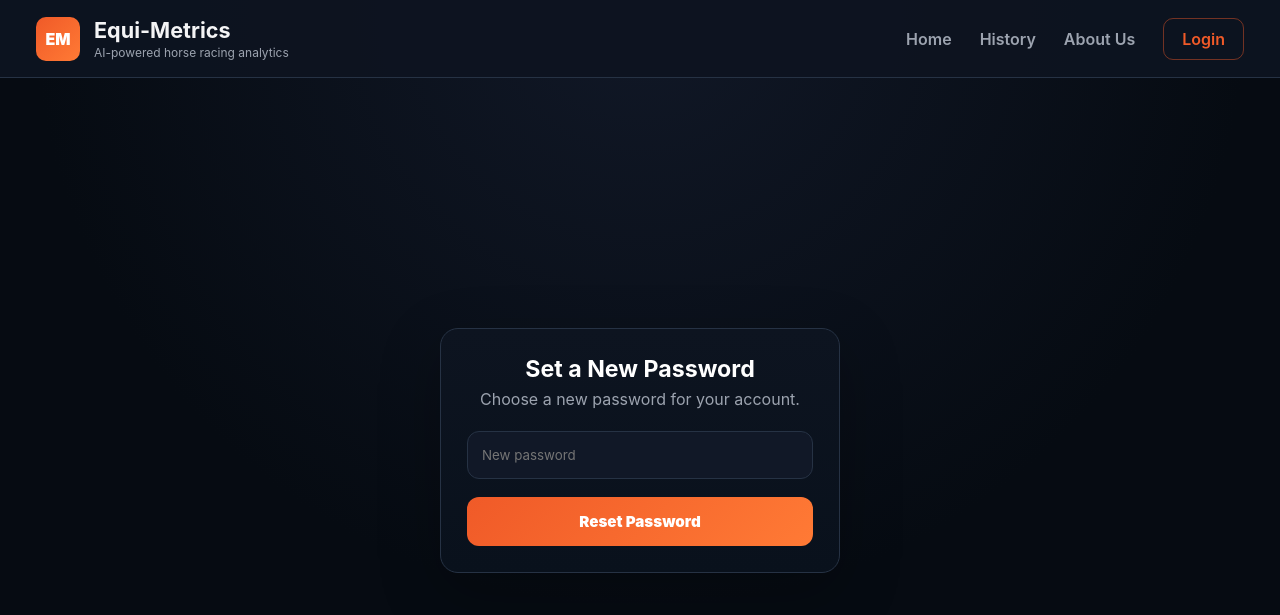
ResetPassword › shows the API's error message if the reset fails, without redirecting
Type "brand-new-password" into the password field labelled "New password" at (640, 454), box [467, 430, 813, 478]
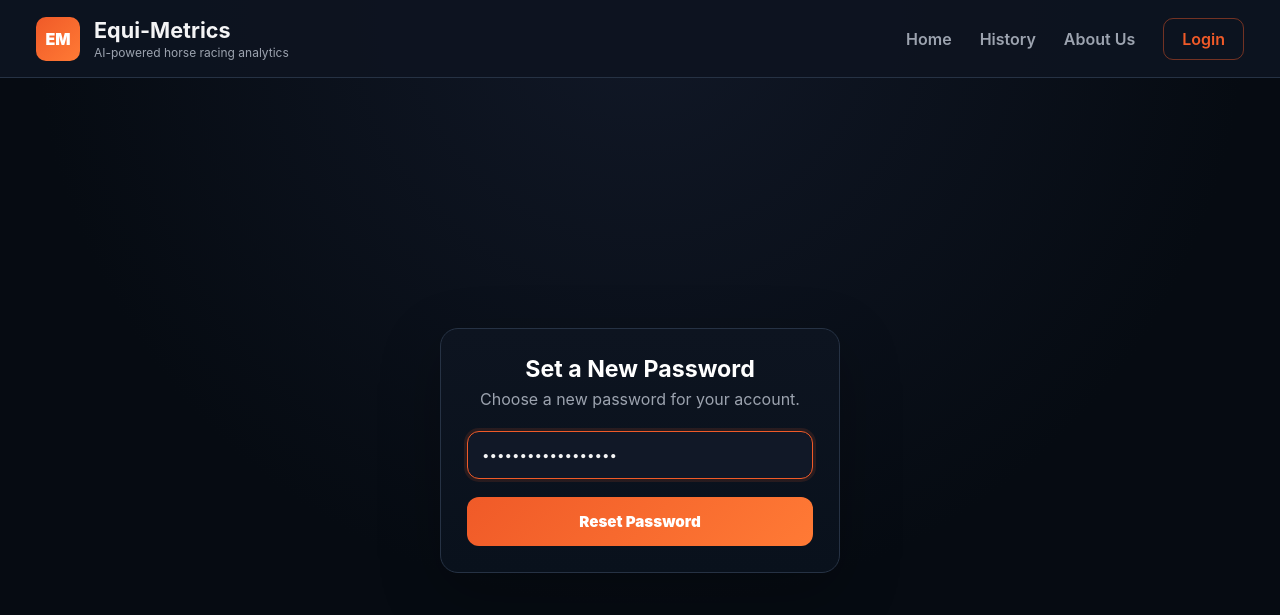
Click the button "Reset Password" at (640, 521), box [467, 496, 813, 546]
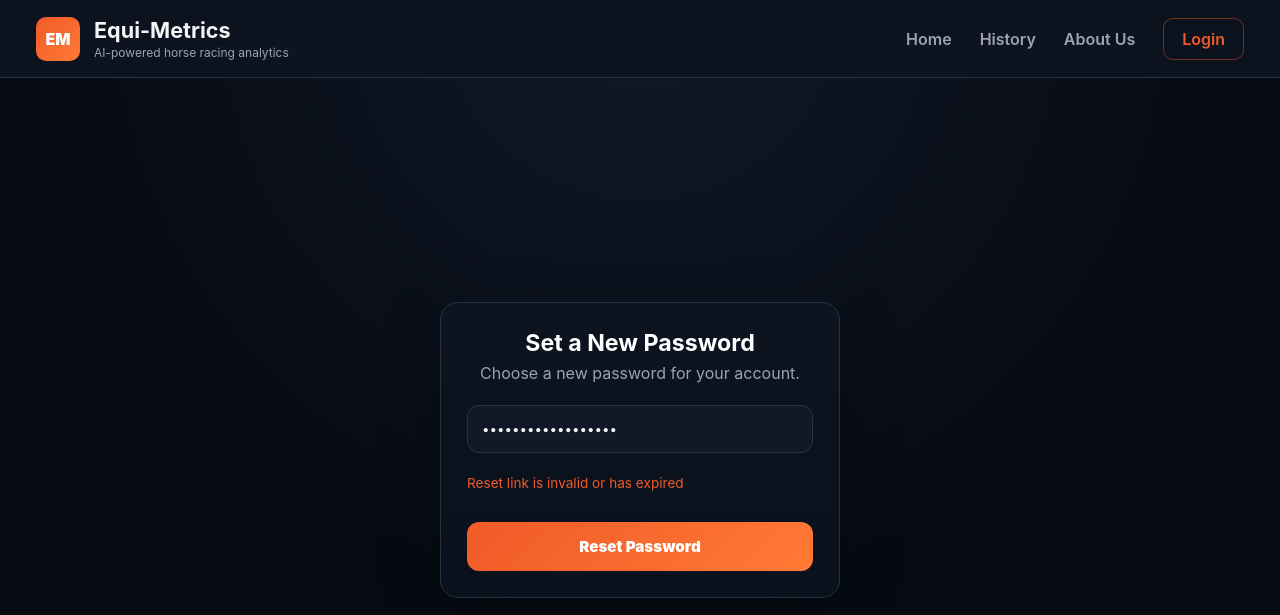
Now the text "Reset link is invalid or has expired" is shown, box [467, 474, 684, 490]
